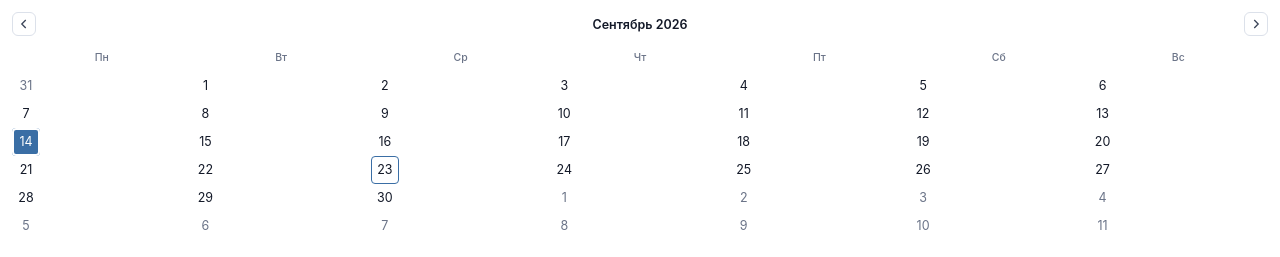
Test case: Calendar › Home на понедельнике не оставляет «залипший» фокус: листание кнопкой не уводит фокус в сетку
Press Home
Click the button named "Следующий месяц" at (1256, 24), box [1244,12,1268,36]
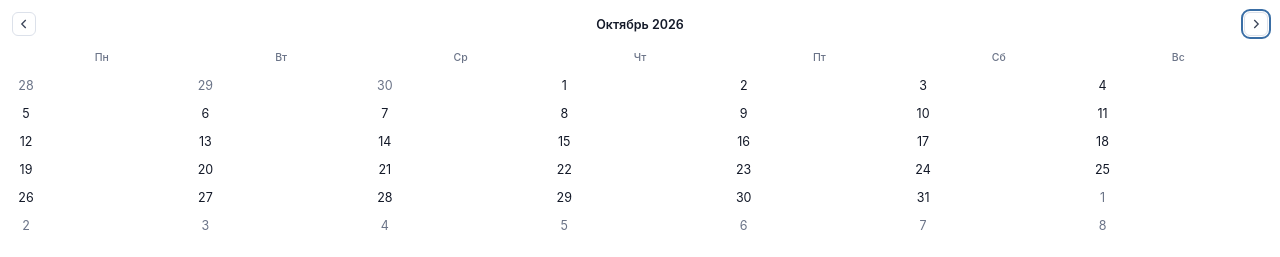
expect the table named "Октябрь 2026" is shown: met
